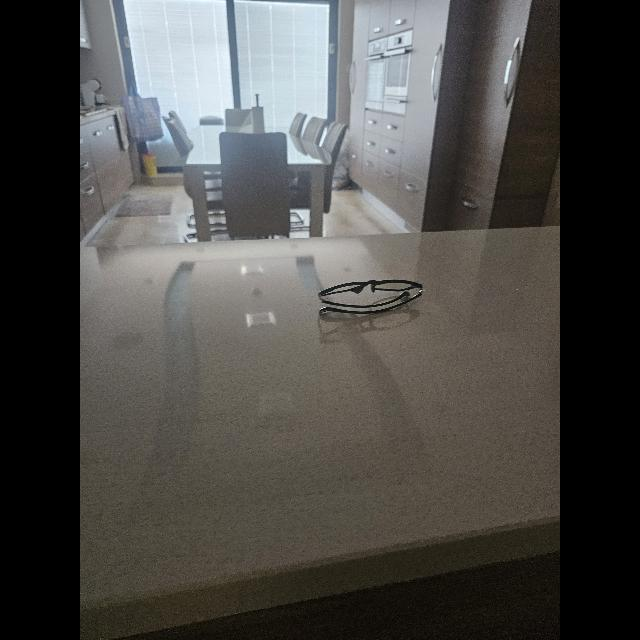glasses: (318, 280, 424, 314)
